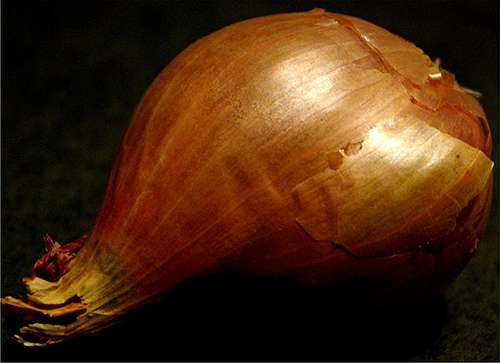onion: (1, 8, 493, 347)
